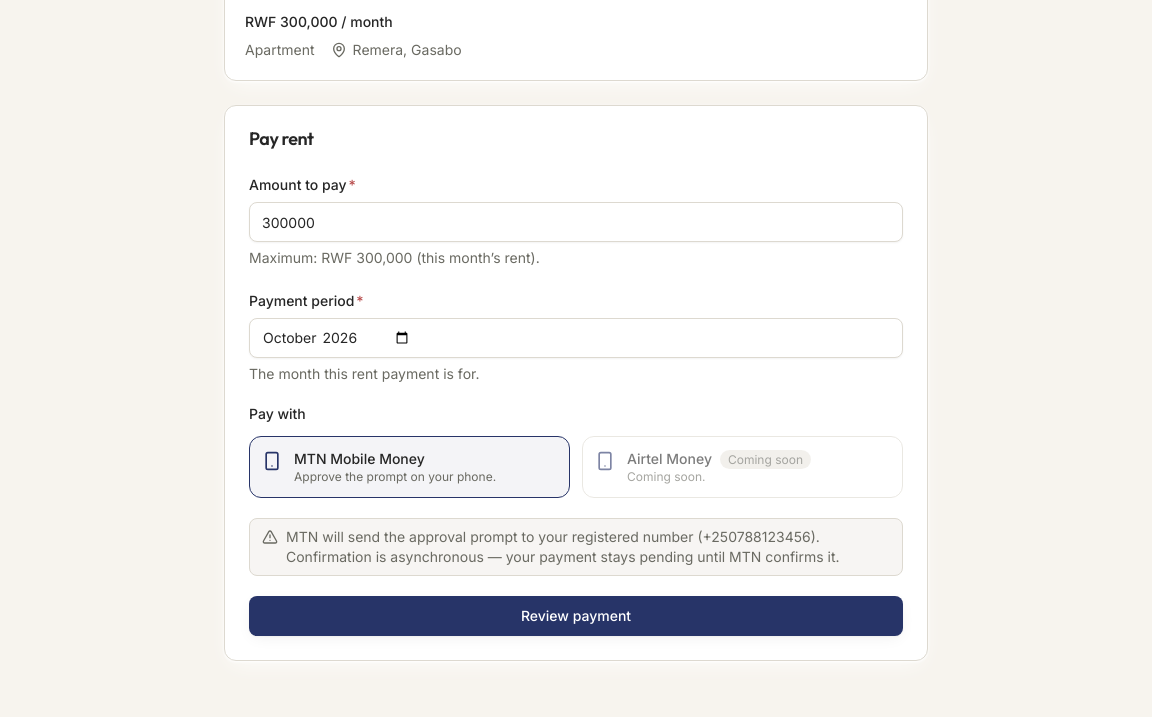
Test: payment creation › submits the correct body + Idempotency-Key and shows PENDING (never SUCCESSFUL)
(page scrolled)
Click the button "Review payment" at [576, 616], box [249, 596, 903, 636]
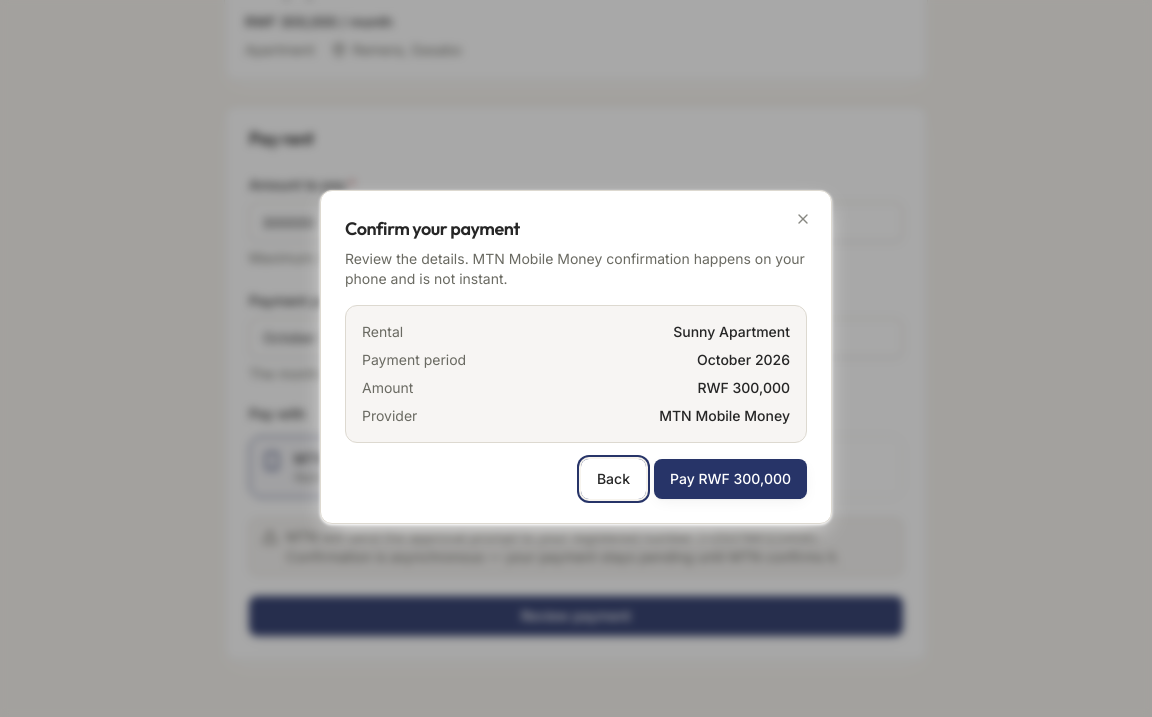
Click the button "Pay RWF 300,000" at [730, 479], box [654, 459, 807, 499]
(page scrolled)
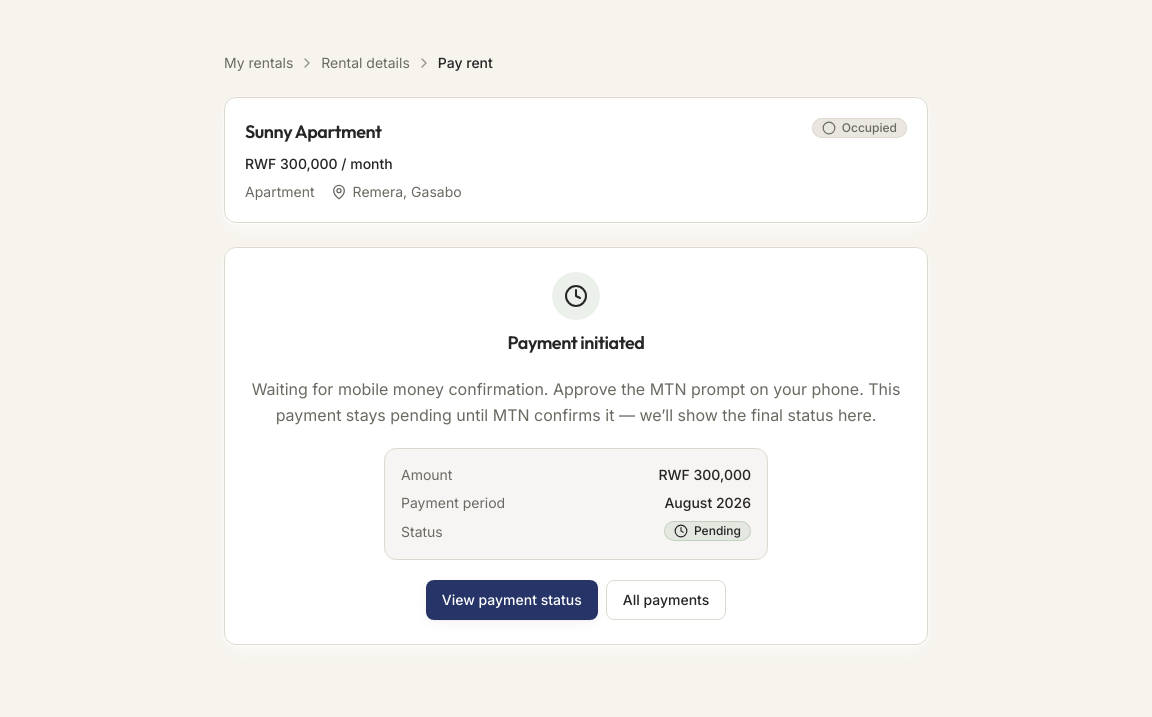
Result: the heading "Payment initiated" is shown at [508, 334, 644, 352]
Result: the text "Pending" is shown at [664, 521, 751, 541]
